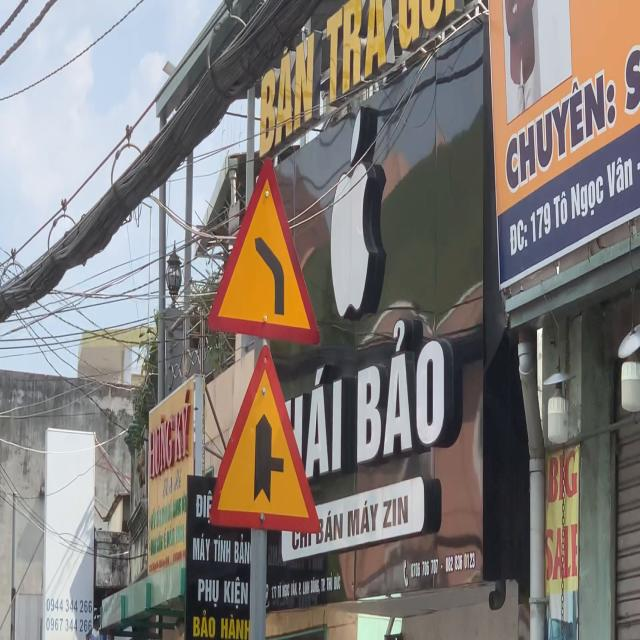Giao voi duong khong uu tien: (204, 340, 324, 541)
Nguy hiem: (204, 150, 331, 353)
